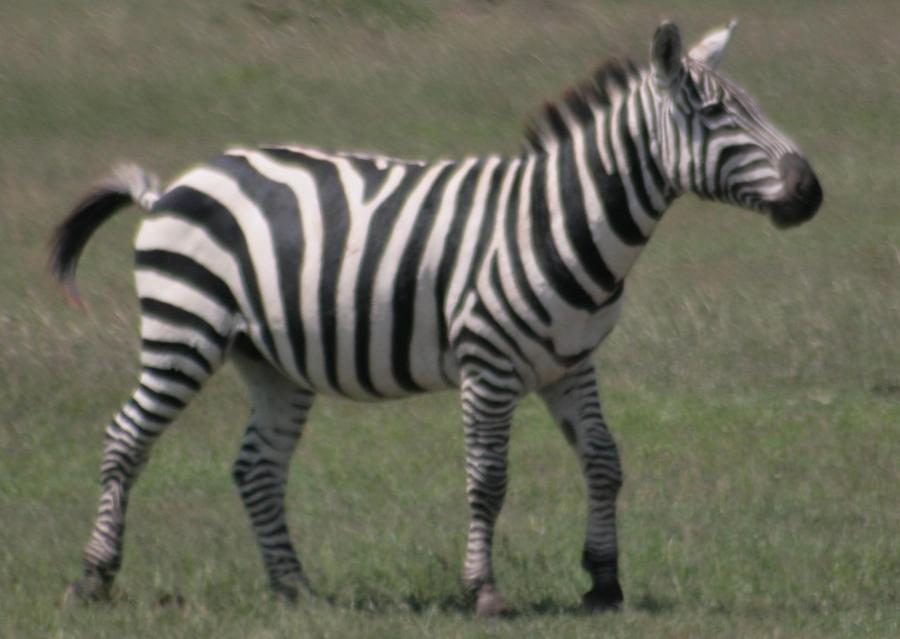zebra_plains: (102, 126, 598, 389)
